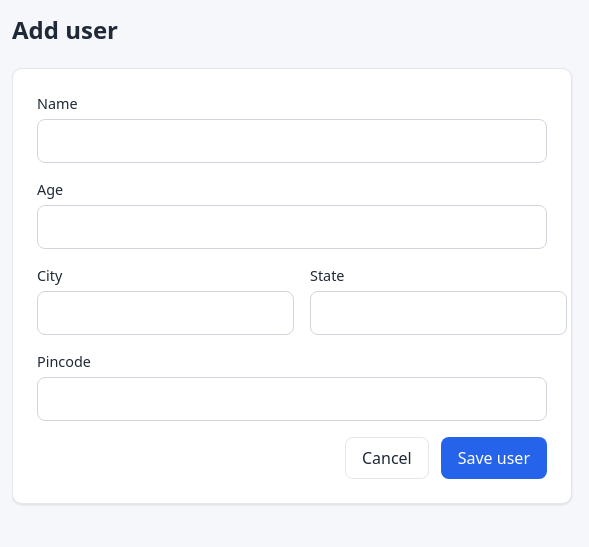
Scenario: AddUserPage › rejects an out-of-range age
Step 1. Type "Jane Doe" into the field labelled "Name" → (292, 141), box [37,119,547,163]
Step 2. Type "30" into the number field labelled "Age" → (292, 227), box [37,205,547,249]
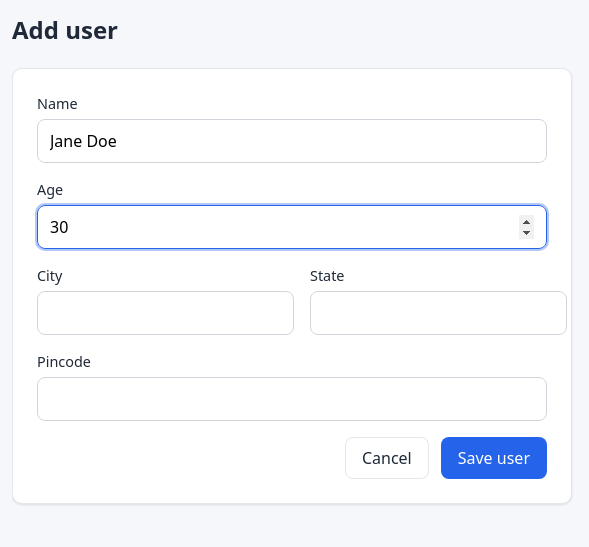
Step 3. Type "Mumbai" into the field labelled "City" → (166, 313), box [37,291,294,335]
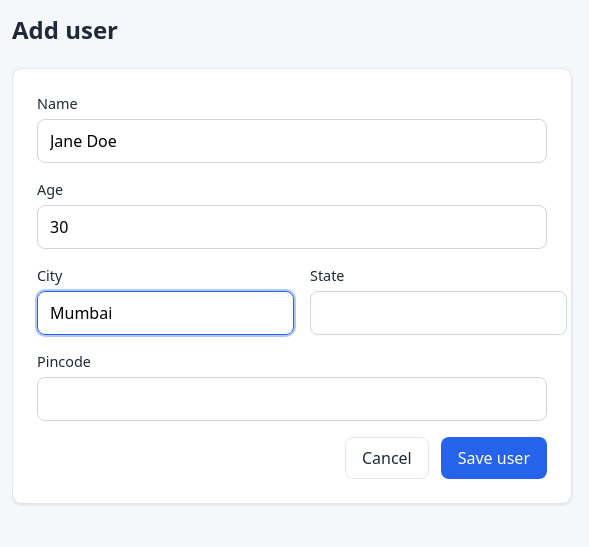
Step 4. Type "Maharashtra" into the field labelled "State" → (438, 313), box [310,291,567,335]
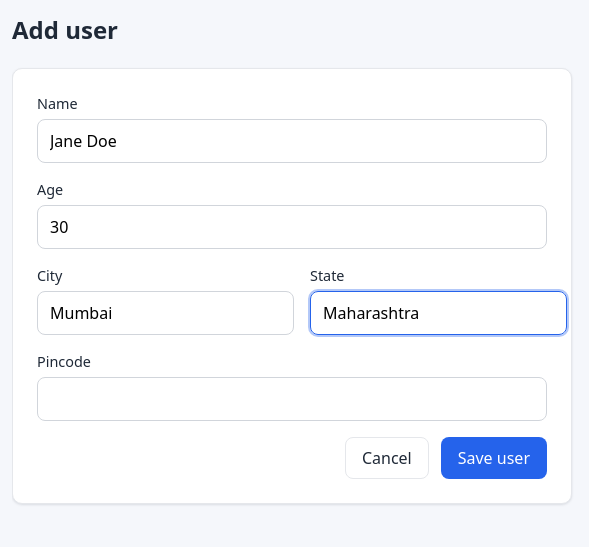
Step 5. Type "400001" into the field labelled "Pincode" → (292, 399), box [37,377,547,421]
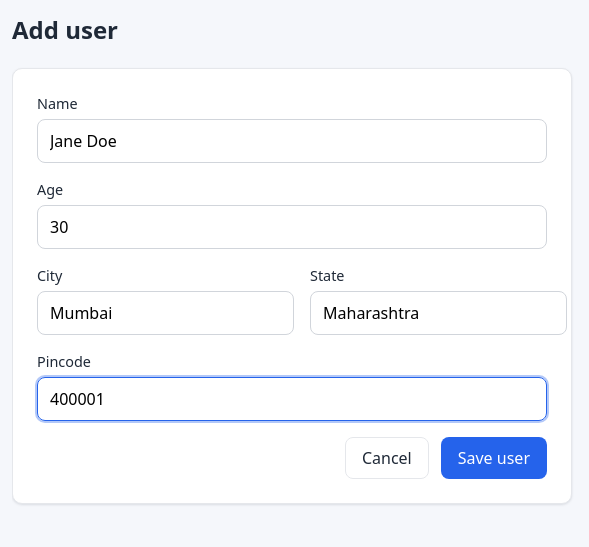
Step 6. Replace the text in the number field labelled "Age" with "101" → (292, 227), box [37,205,547,249]
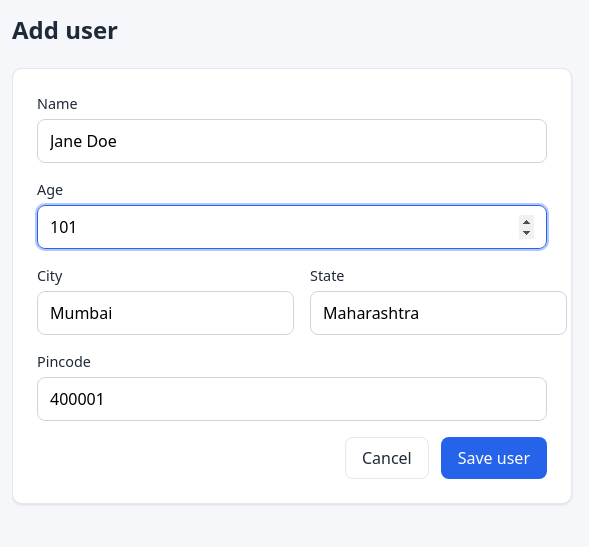
Step 7. Click the button "Save user" → (494, 458), box [441,437,547,479]
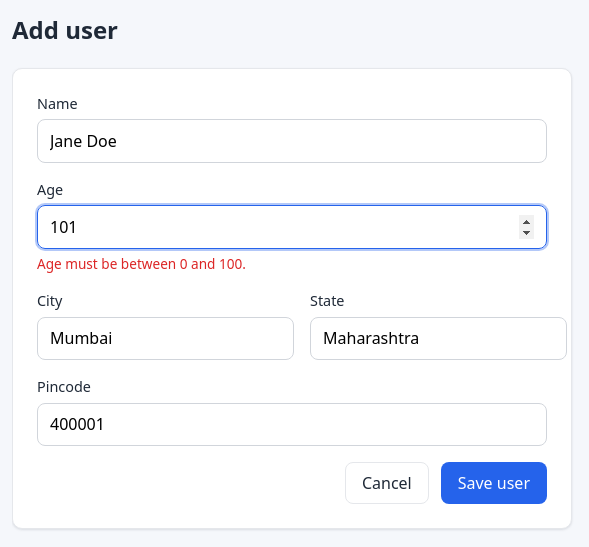
Result: the text "Age must be between 0 and 100." is shown at [37,254,246,273]
